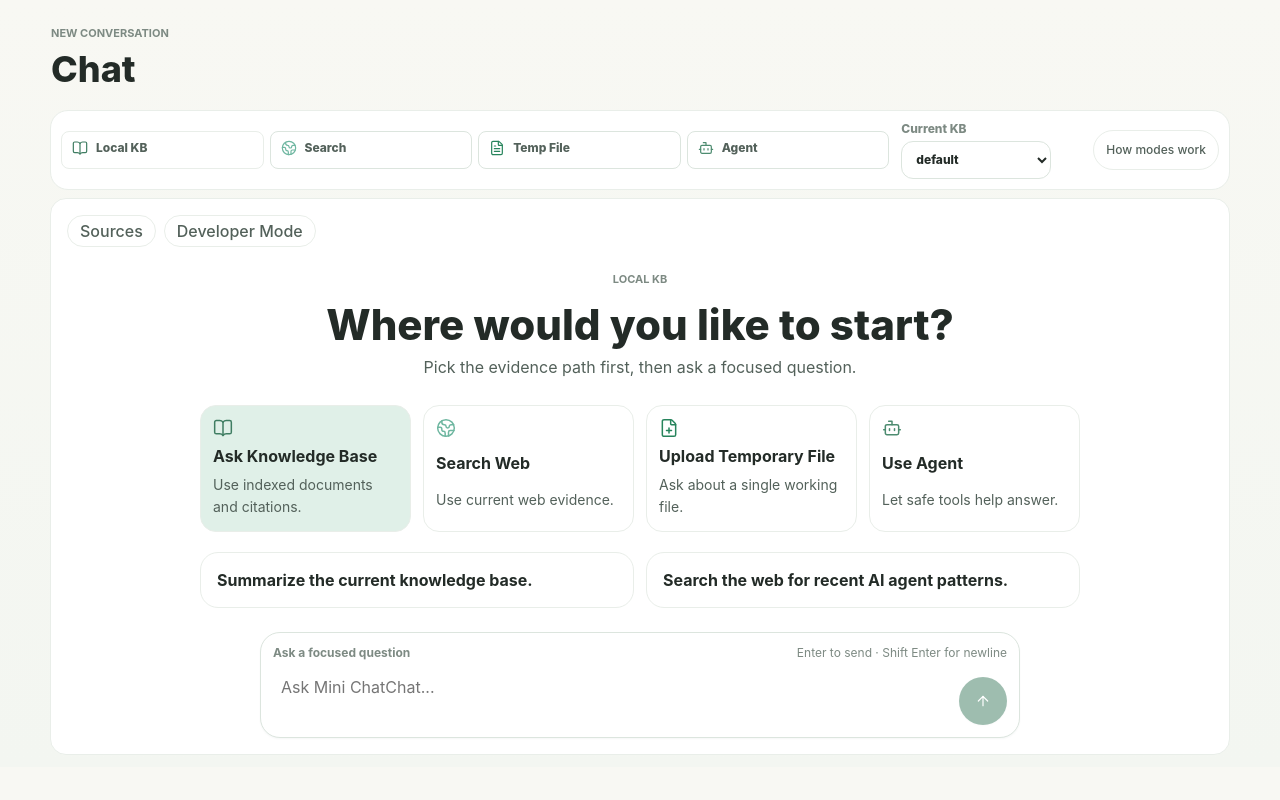
chat mode payloads › sends search_engine mode without kb_name after selecting Search
The image size is (1280, 800).
Click the button with test id "chat-mode-search-engine" at (371, 150), box [270,131,472,169]
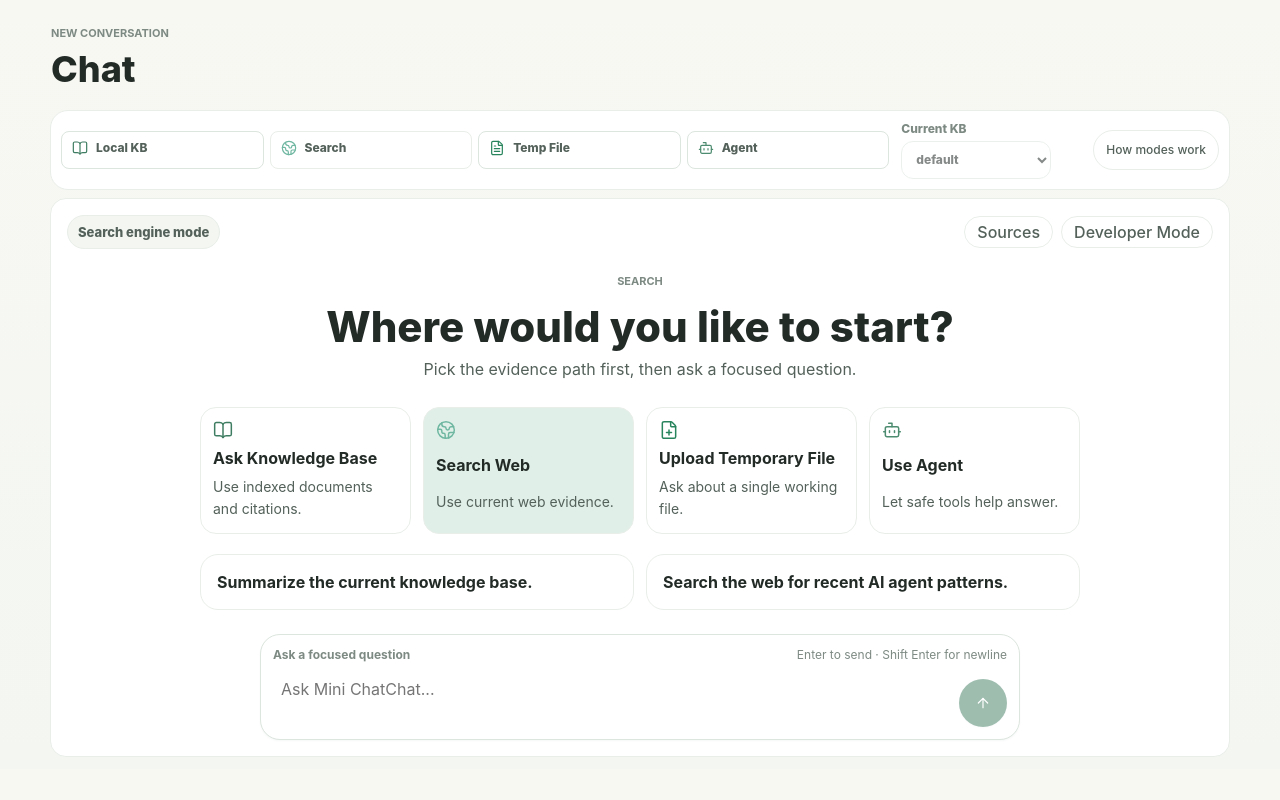
Check: the text "Search engine mode" is shown, box [67,215,220,249]
Type "新西兰现在几点" into the text box labelled "Ask Mini ChatChat..." at (612, 699), box [273,671,951,727]
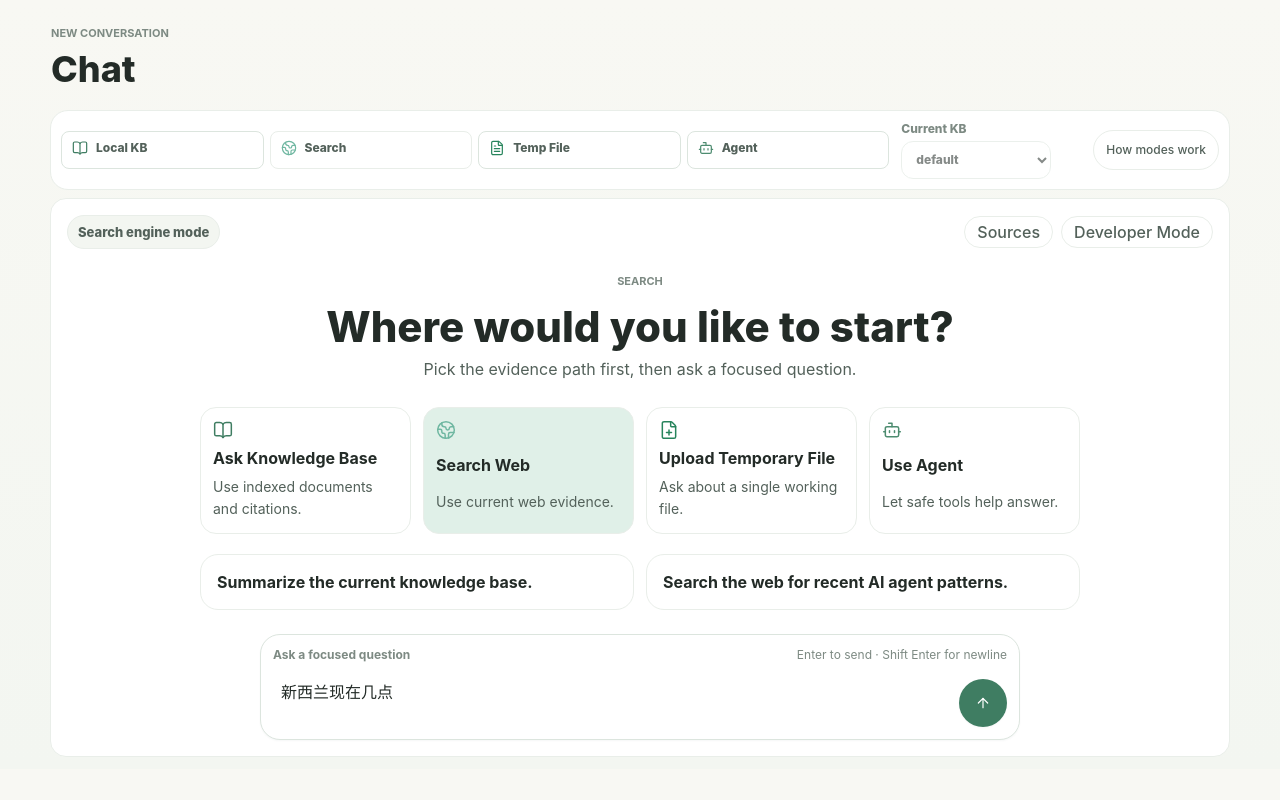
Click the button named "Send" at (983, 703), box [959,679,1007,727]
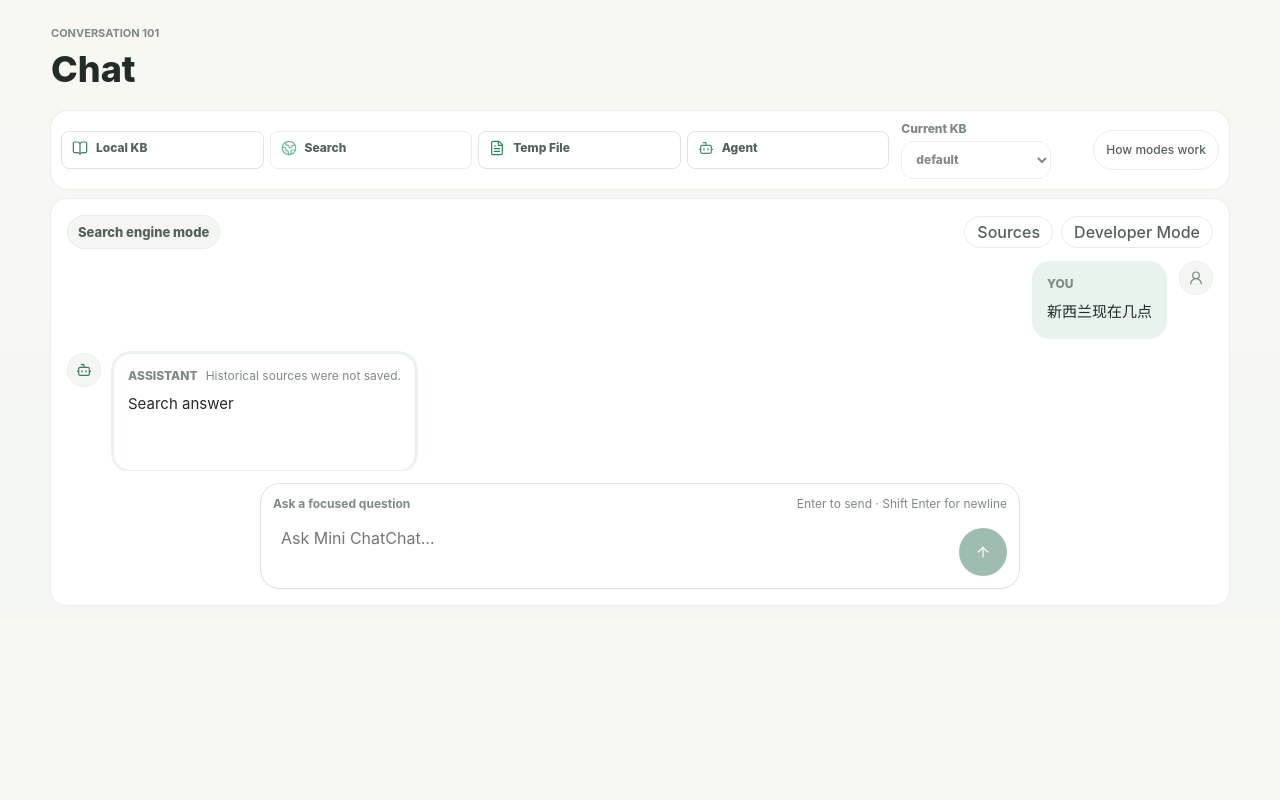
Check: the text "新西兰现在几点" is shown, box [1047,302,1152,321]
